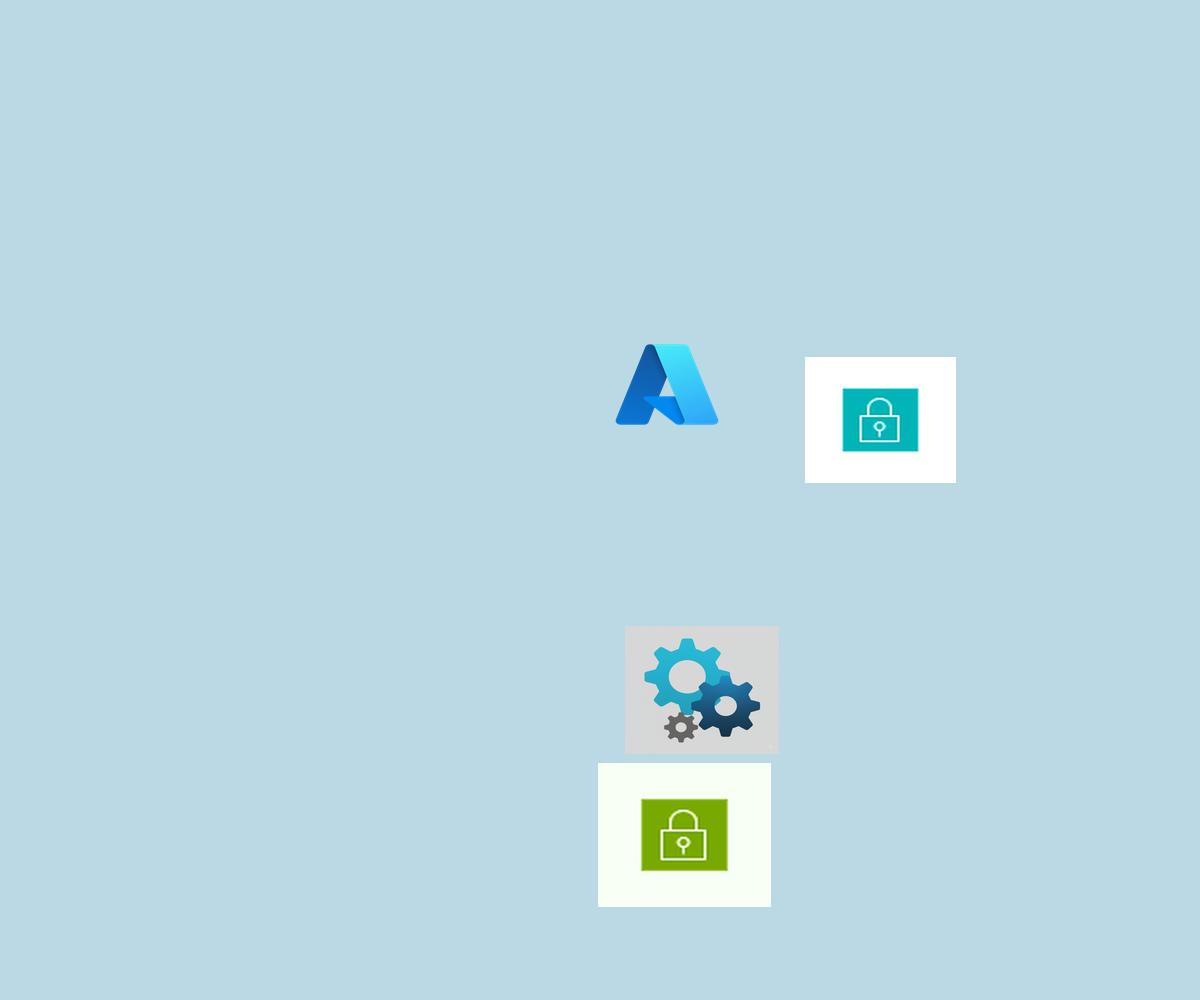AWS-Private-subnet: (805, 357, 956, 483)
AWS-Public-subnet: (598, 763, 771, 907)
Azure_api: (625, 626, 779, 754)
Azure_services: (611, 338, 723, 431)
